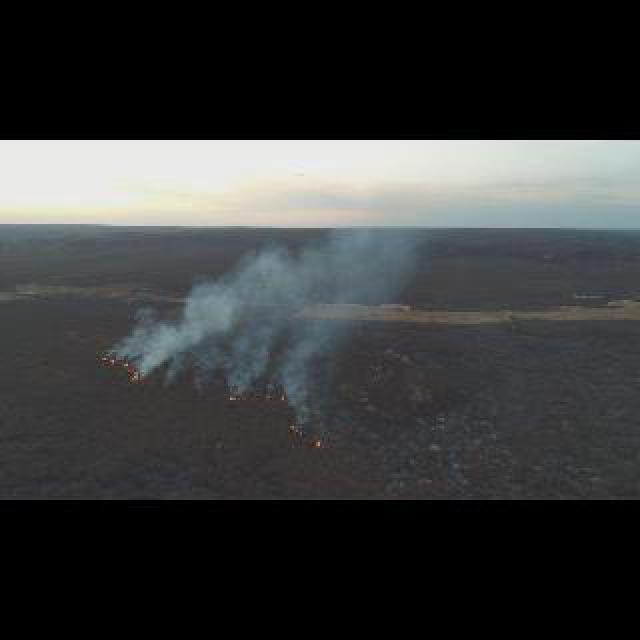smoke: (200, 210, 434, 346), (128, 300, 204, 368), (282, 360, 322, 428), (234, 330, 276, 384)
zfire: (120, 364, 140, 382), (100, 356, 114, 364), (228, 396, 244, 402), (314, 440, 322, 446)
